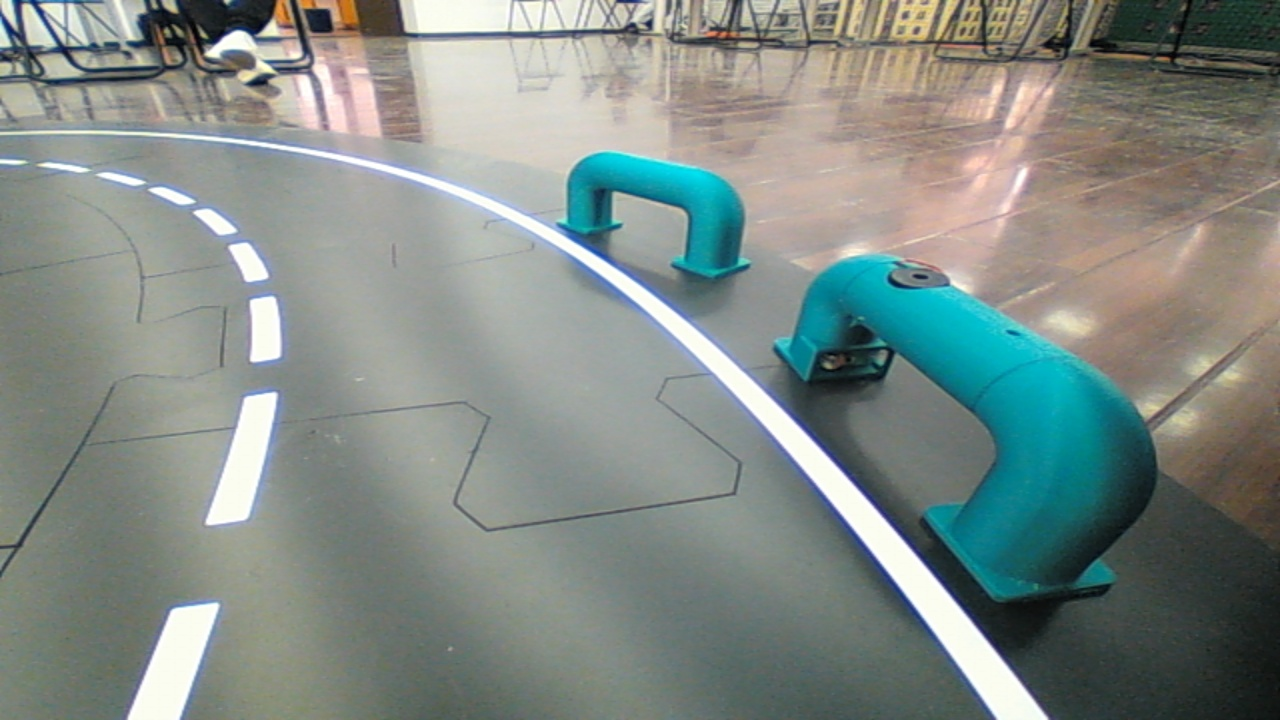No entry: (547, 135, 765, 286)
Pedestrian crossing: (760, 228, 1177, 627)
